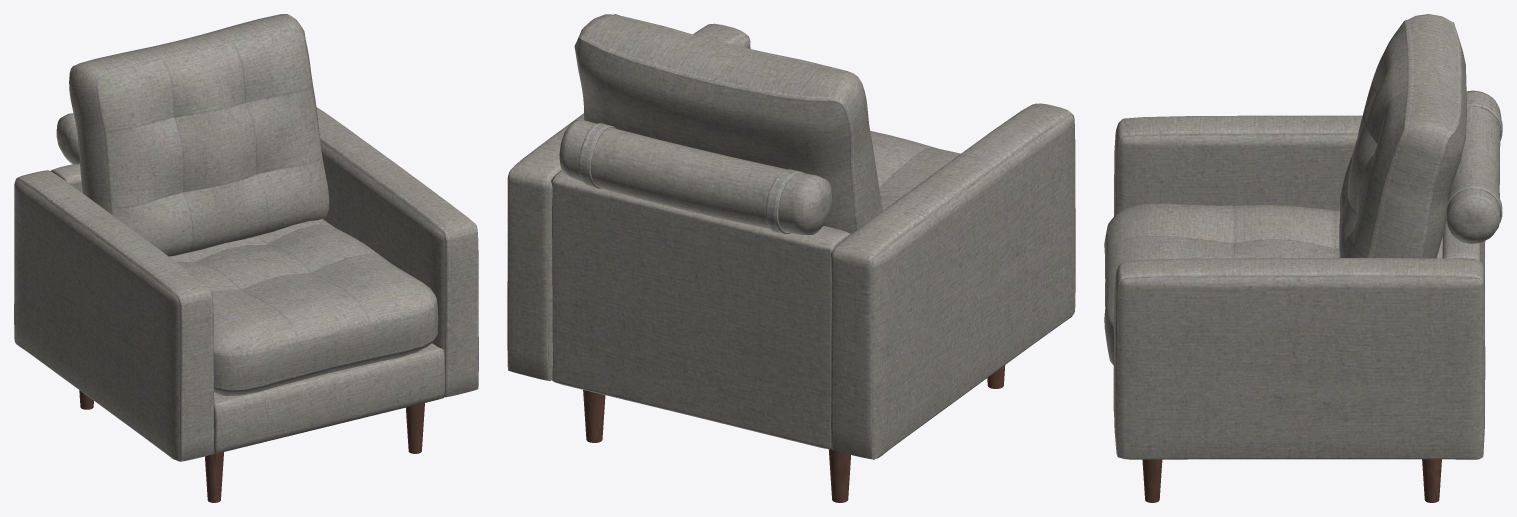
The model's file is B071W5VJFK.glb.
3 renders of one model, left to right at view 1: azimuth 30°, elevation 25°; view 2: azimuth 150°, elevation 25°; view 3: azimuth 270°, elevation 25°, orthographic. The views are drawn at different scales.
Visible parts, largest first — view 1: RootNode; view 2: RootNode; view 3: RootNode.
Part boxes in pixels (bbox=[...]): RootNode: bbox=[14, 14, 478, 502]; RootNode: bbox=[507, 14, 1075, 502]; RootNode: bbox=[1104, 14, 1502, 502].
Bounding box in the file's own units: 0.8207 × 0.8804 × 0.8426.
Materials: 1 (1 with a texture image).
